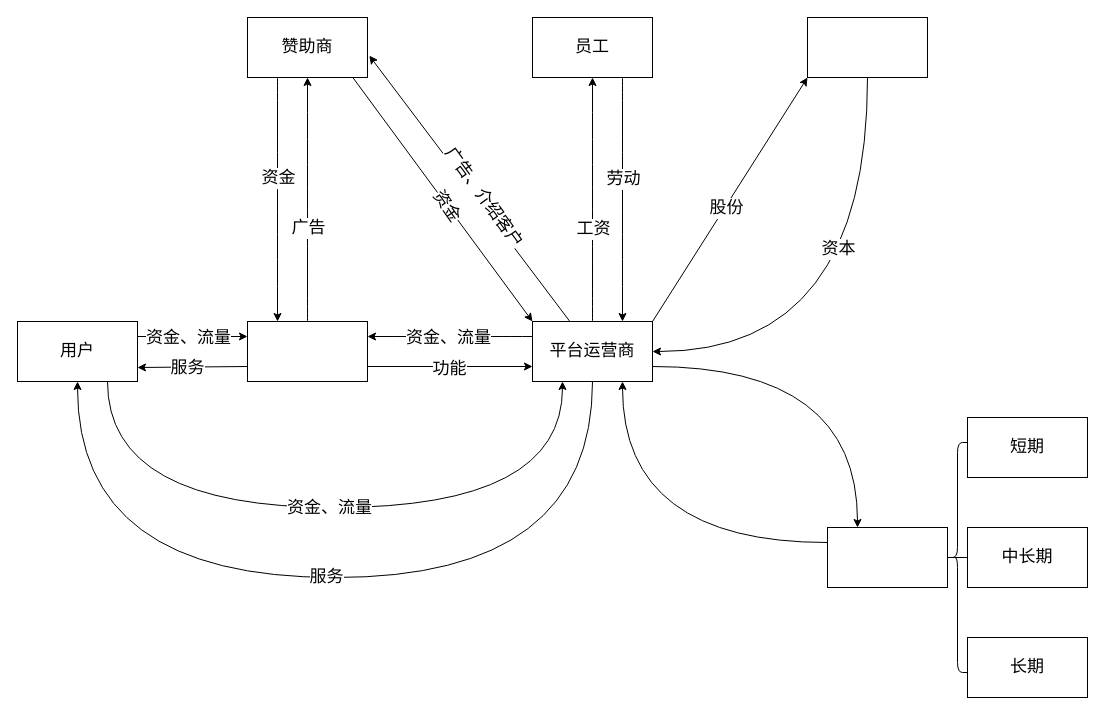
This 1105x715 diagram has some shape labels left out. The centre of each missing label's shape, as x and y in pixels:
"合作伙伴" belongs at pixel 887 557.
"客户" belongs at pixel 307 351.
"投资人" belongs at pixel 867 47.
